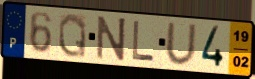4: (200, 24, 226, 70)
6: (28, 10, 53, 55)
L: (131, 19, 156, 63)
N: (95, 14, 128, 62)
Q: (57, 12, 88, 59)
U: (164, 22, 198, 67)
